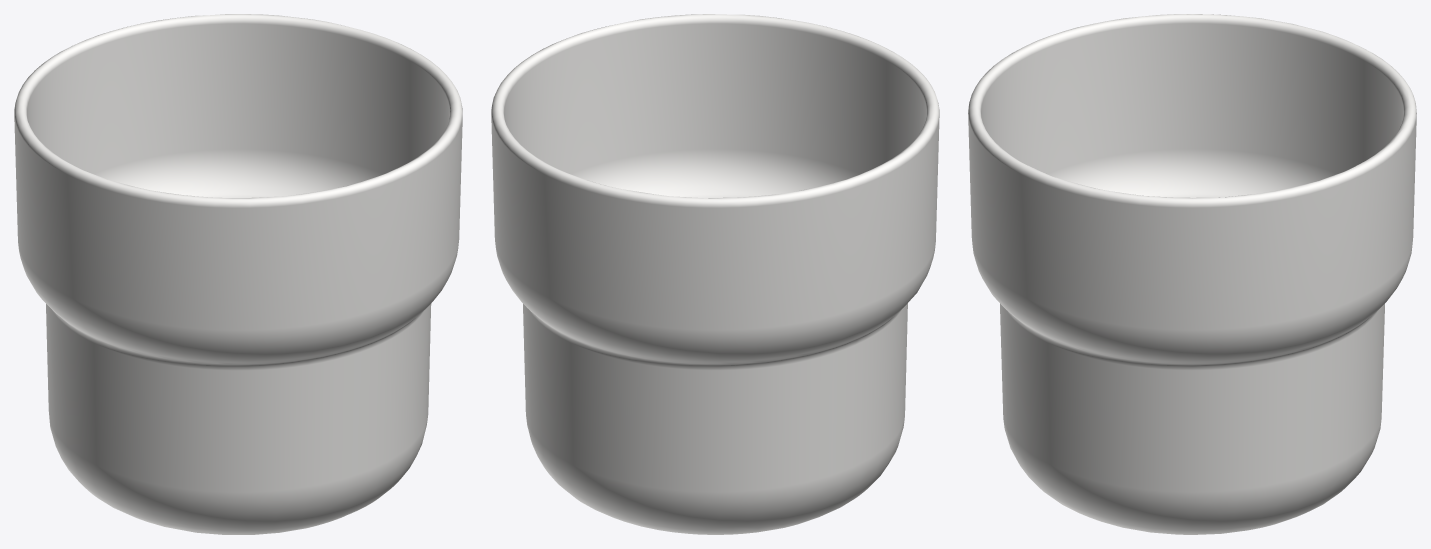
The model's file is forenlig_osonka_doniczki_70454813.glb.
3 renders of one model, left to right at view 1: azimuth 30°, elevation 25°; view 2: azimuth 150°, elevation 25°; view 3: azimuth 270°, elevation 25°, orthographic.
Parts seen in each view (by area): view 1: forenlig_osonka_doniczki_70454813; view 2: forenlig_osonka_doniczki_70454813; view 3: forenlig_osonka_doniczki_70454813.
Part boxes in pixels (x1,y1,x2,y2): forenlig_osonka_doniczki_70454813: (14,14,462,534); forenlig_osonka_doniczki_70454813: (491,14,939,534); forenlig_osonka_doniczki_70454813: (968,14,1416,534).
Bounding box in the file's own units: 0.1039 × 0.095 × 0.1039.
Materials: 1 (1 with a texture image).
